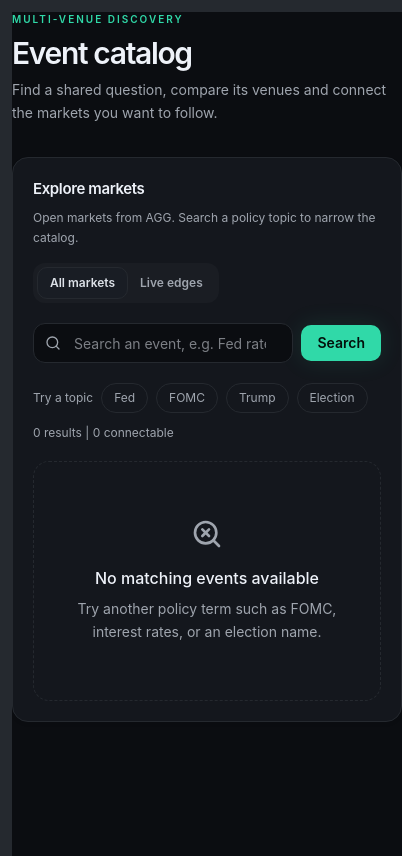
Test case: CandidatesPage › browses unfiltered markets and can switch to live edges
Expected: the text "No matching events available" is shown, [95,568,319,588]
Click the button "Live edges": (171, 283) [128,267,215,299]
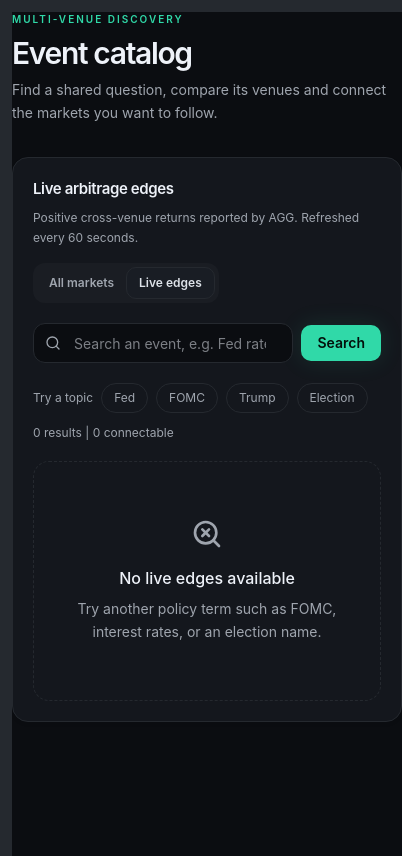
Expected: the text "No live edges available" is shown, [119,568,295,588]
